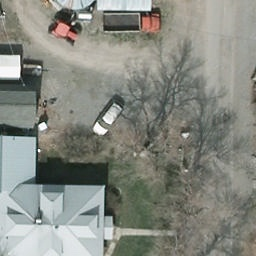car: (91, 97, 127, 140)
tractor: (47, 15, 89, 50)
truck: (101, 12, 164, 34)
